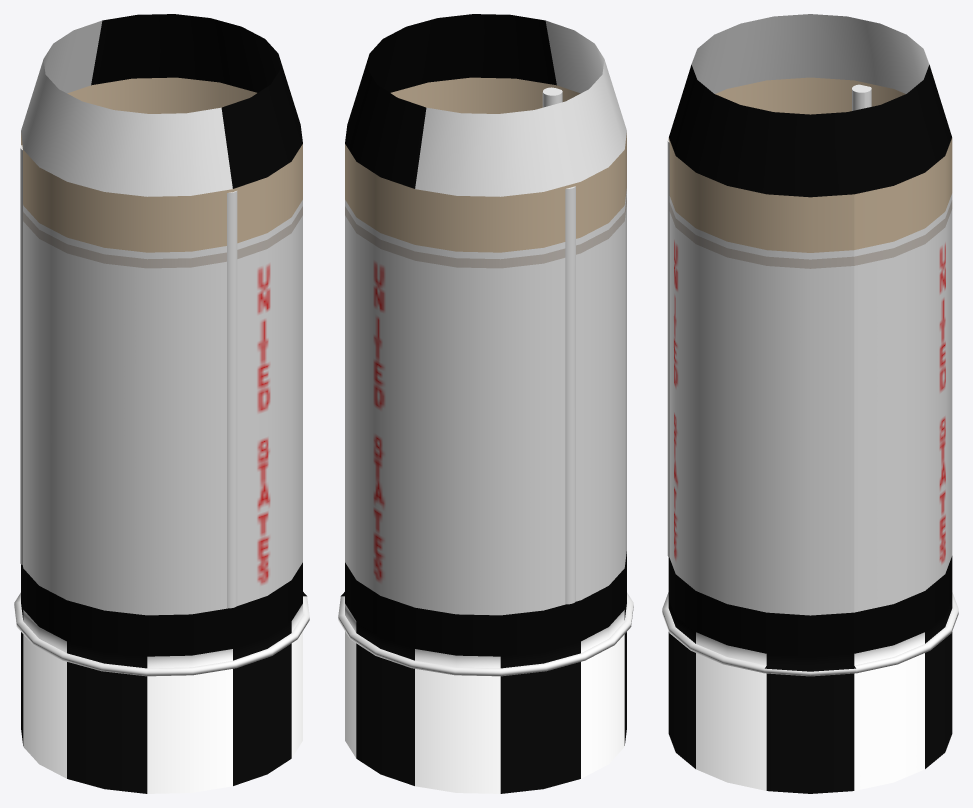
Rendered from Etapa2.obj.
3 views of the same model, side by side, from view 1: azimuth 30°, elevation 25°; view 2: azimuth 150°, elevation 25°; view 3: azimuth 270°, elevation 25° (orthographic).
Bounding box in the file's own units: 0.8993 × 2.24 × 0.8993.
